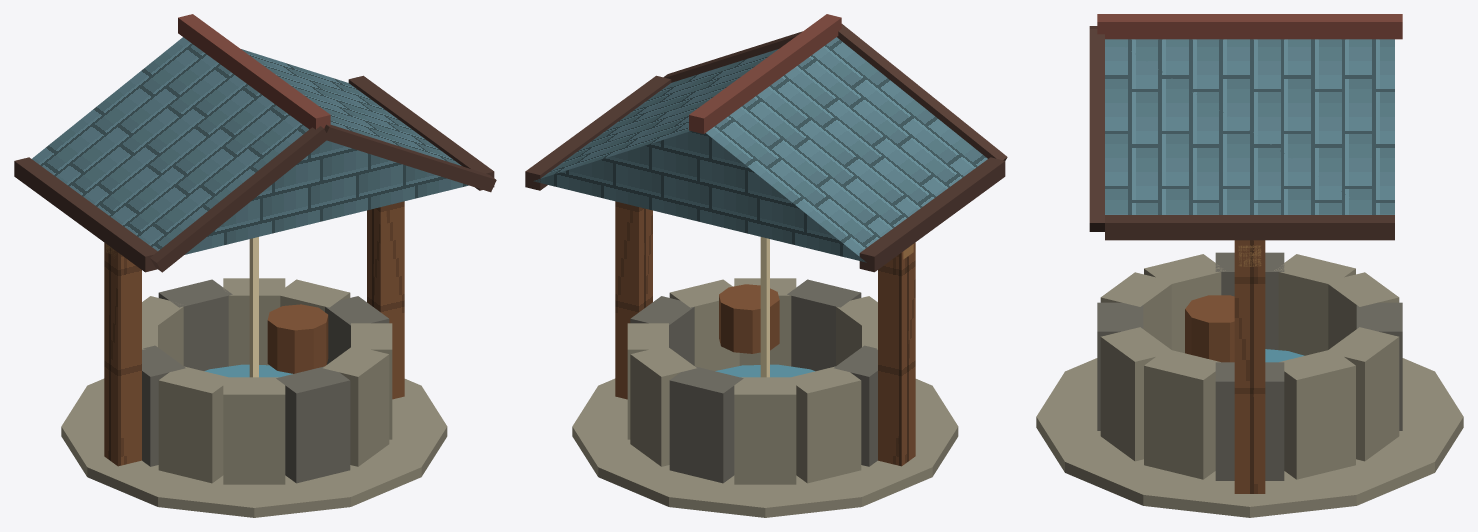
The model's file is well.glb.
3 renders of one model, left to right at view 1: azimuth 30°, elevation 25°; view 2: azimuth 150°, elevation 25°; view 3: azimuth 270°, elevation 25°, orthographic. The views are drawn at different scales.
Parts seen in each view (by area): view 1: village_well; view 2: village_well; view 3: village_well.
Boxes of the visible parts, bbox=[...] form: village_well: bbox=[14, 14, 496, 517]; village_well: bbox=[525, 14, 1007, 517]; village_well: bbox=[1036, 14, 1463, 517].
Bounding box in the file's own units: 58.5 × 59.25 × 56.
Materials: 10 (2 with a texture image).
